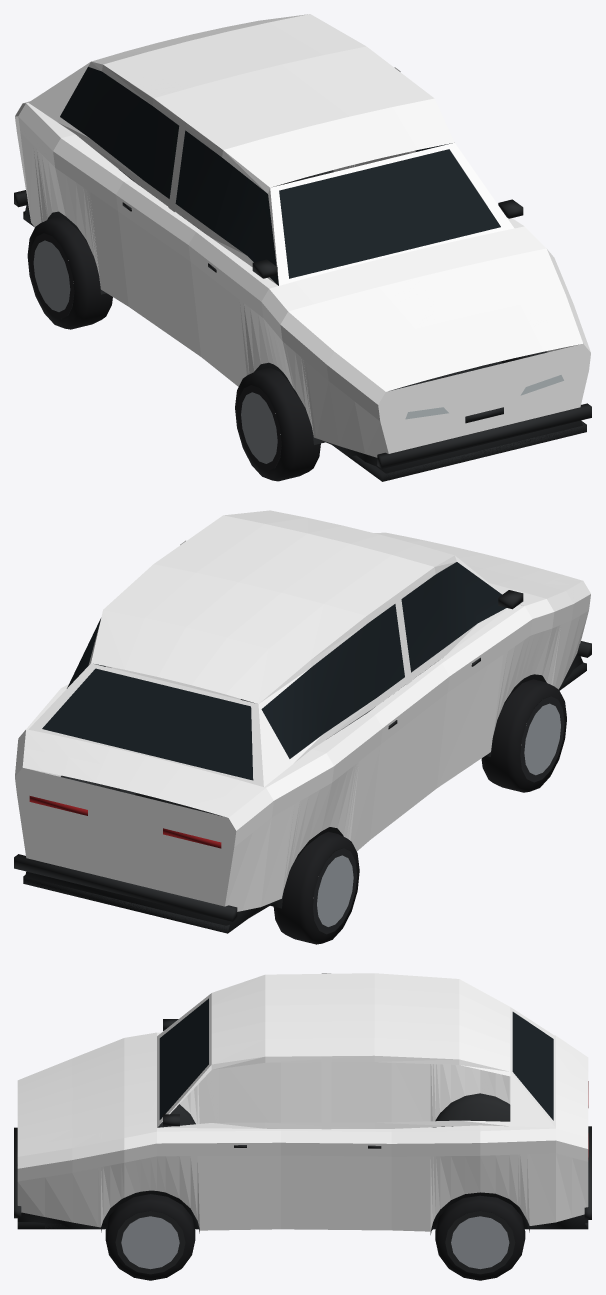
Rendered from ridgeway_mirante.glb.
3 renders of one model, top to bottom at view 1: azimuth 30°, elevation 25°; view 2: azimuth 150°, elevation 25°; view 3: azimuth 270°, elevation 25°, orthographic. The views are drawn at different scales.
Parts seen in each view (by area): view 1: Body_Paint, Body_Details, Mount_FrontLeft_Wheel_Details, Mount_RearLeft_Wheel_Details; view 2: Body_Paint, Body_Details, Mount_FrontLeft_Wheel_Details, Mount_RearLeft_Wheel_Details; view 3: Body_Paint, Body_Details, Mount_FrontRight_Wheel_Details, Mount_RearRight_Wheel_Details.
Part boxes in pixels (box(x1,y1,x2,y2)): Body_Paint: box(15, 14, 590, 457); Body_Details: box(14, 67, 591, 481); Mount_FrontLeft_Wheel_Details: box(235, 367, 320, 481); Mount_RearLeft_Wheel_Details: box(27, 216, 112, 329); Body_Paint: box(15, 510, 590, 911); Body_Details: box(14, 562, 591, 933); Mount_FrontLeft_Wheel_Details: box(481, 679, 566, 792); Mount_RearLeft_Wheel_Details: box(273, 831, 359, 944); Body_Paint: box(17, 973, 588, 1231); Body_Details: box(14, 998, 591, 1234); Mount_FrontRight_Wheel_Details: box(105, 1194, 195, 1280); Mount_RearRight_Wheel_Details: box(435, 1195, 525, 1280).
Size of the model in its own units: 2 by 1.83 by 4.43.
2 materials, 1 textured.
